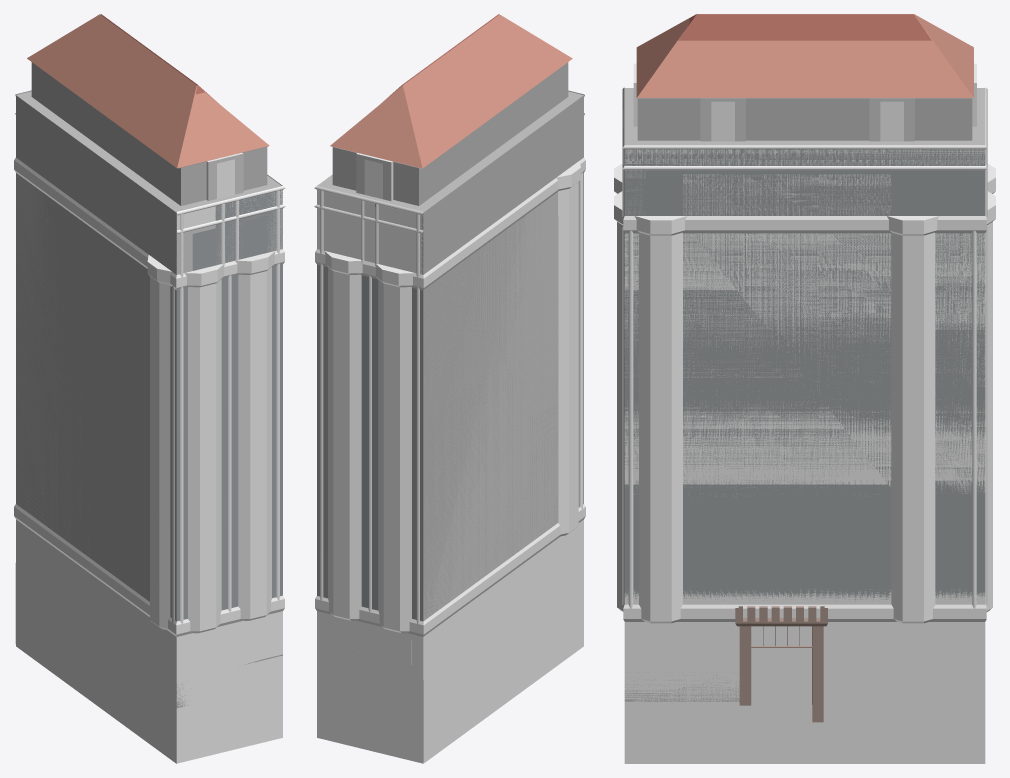
File: tower_residential3.dae
3 views of the same model, side by side, from view 1: azimuth 30°, elevation 25°; view 2: azimuth 150°, elevation 25°; view 3: azimuth 270°, elevation 25° (orthographic). The views are drawn at different scales.
Visible parts, largest first — view 1: tower_residential3_a250, tower_residential3_a500; view 2: tower_residential3_a500, tower_residential3_a250; view 3: tower_residential3_a250, tower_residential3_a500.
Boxes of the visible parts, x1,y1,x2,y2 form: tower_residential3_a250: (16,14,282,763); tower_residential3_a500: (14,14,285,763); tower_residential3_a500: (314,14,585,763); tower_residential3_a250: (317,14,583,763); tower_residential3_a250: (624,14,985,763); tower_residential3_a500: (614,14,995,759).
Size of the model in its own units: 10.4 by 24.93 by 51.94.
